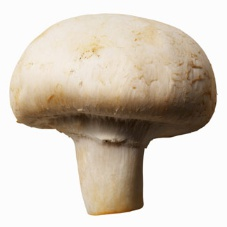mushroom: (9, 11, 223, 217)
